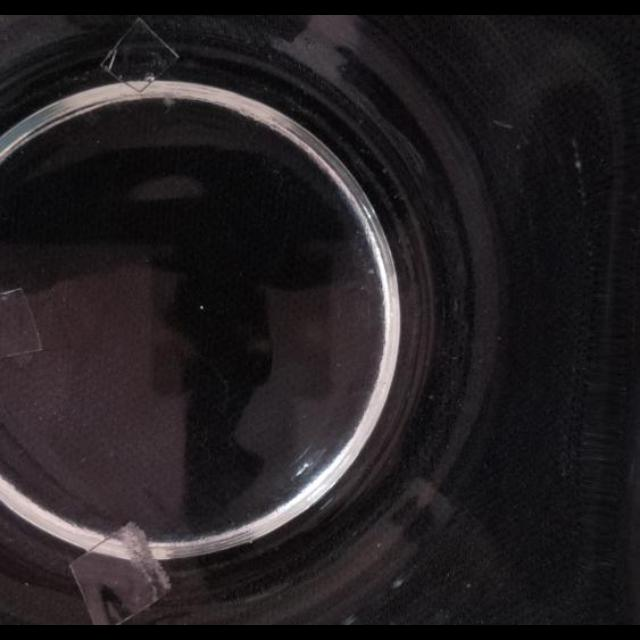Film: (68, 519, 172, 625), (98, 15, 184, 95), (0, 283, 44, 363)
